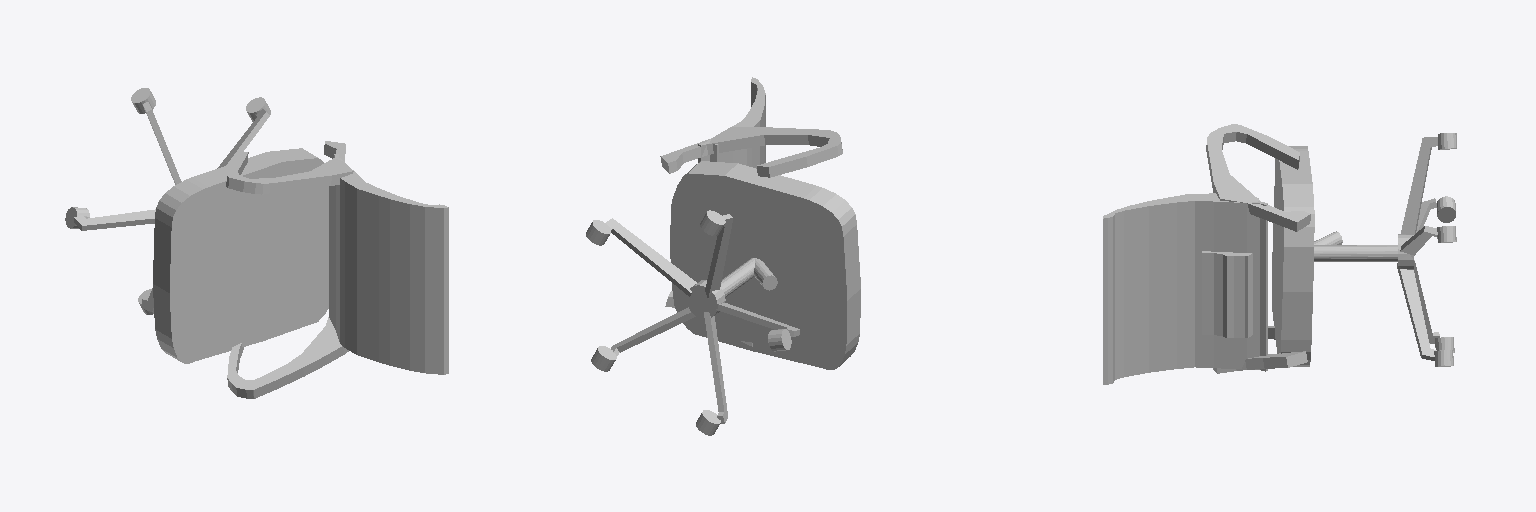
The model's file is OfficeChair_1.obj.
3 renders of one model, left to right at view 1: azimuth 30°, elevation 25°; view 2: azimuth 150°, elevation 25°; view 3: azimuth 270°, elevation 25°, orthographic.
Parts seen in each view (by area): view 1: 设计图层-1; view 2: 设计图层-1; view 3: 设计图层-1.
Part boxes in pixels (left/top/right/bottom): 设计图层-1: left=65, top=88, right=448, bottom=398; 设计图层-1: left=586, top=77, right=860, bottom=435; 设计图层-1: left=1103, top=124, right=1456, bottom=384.
Bounding box in the file's own units: 0.5782 × 0.5915 × 0.8504.